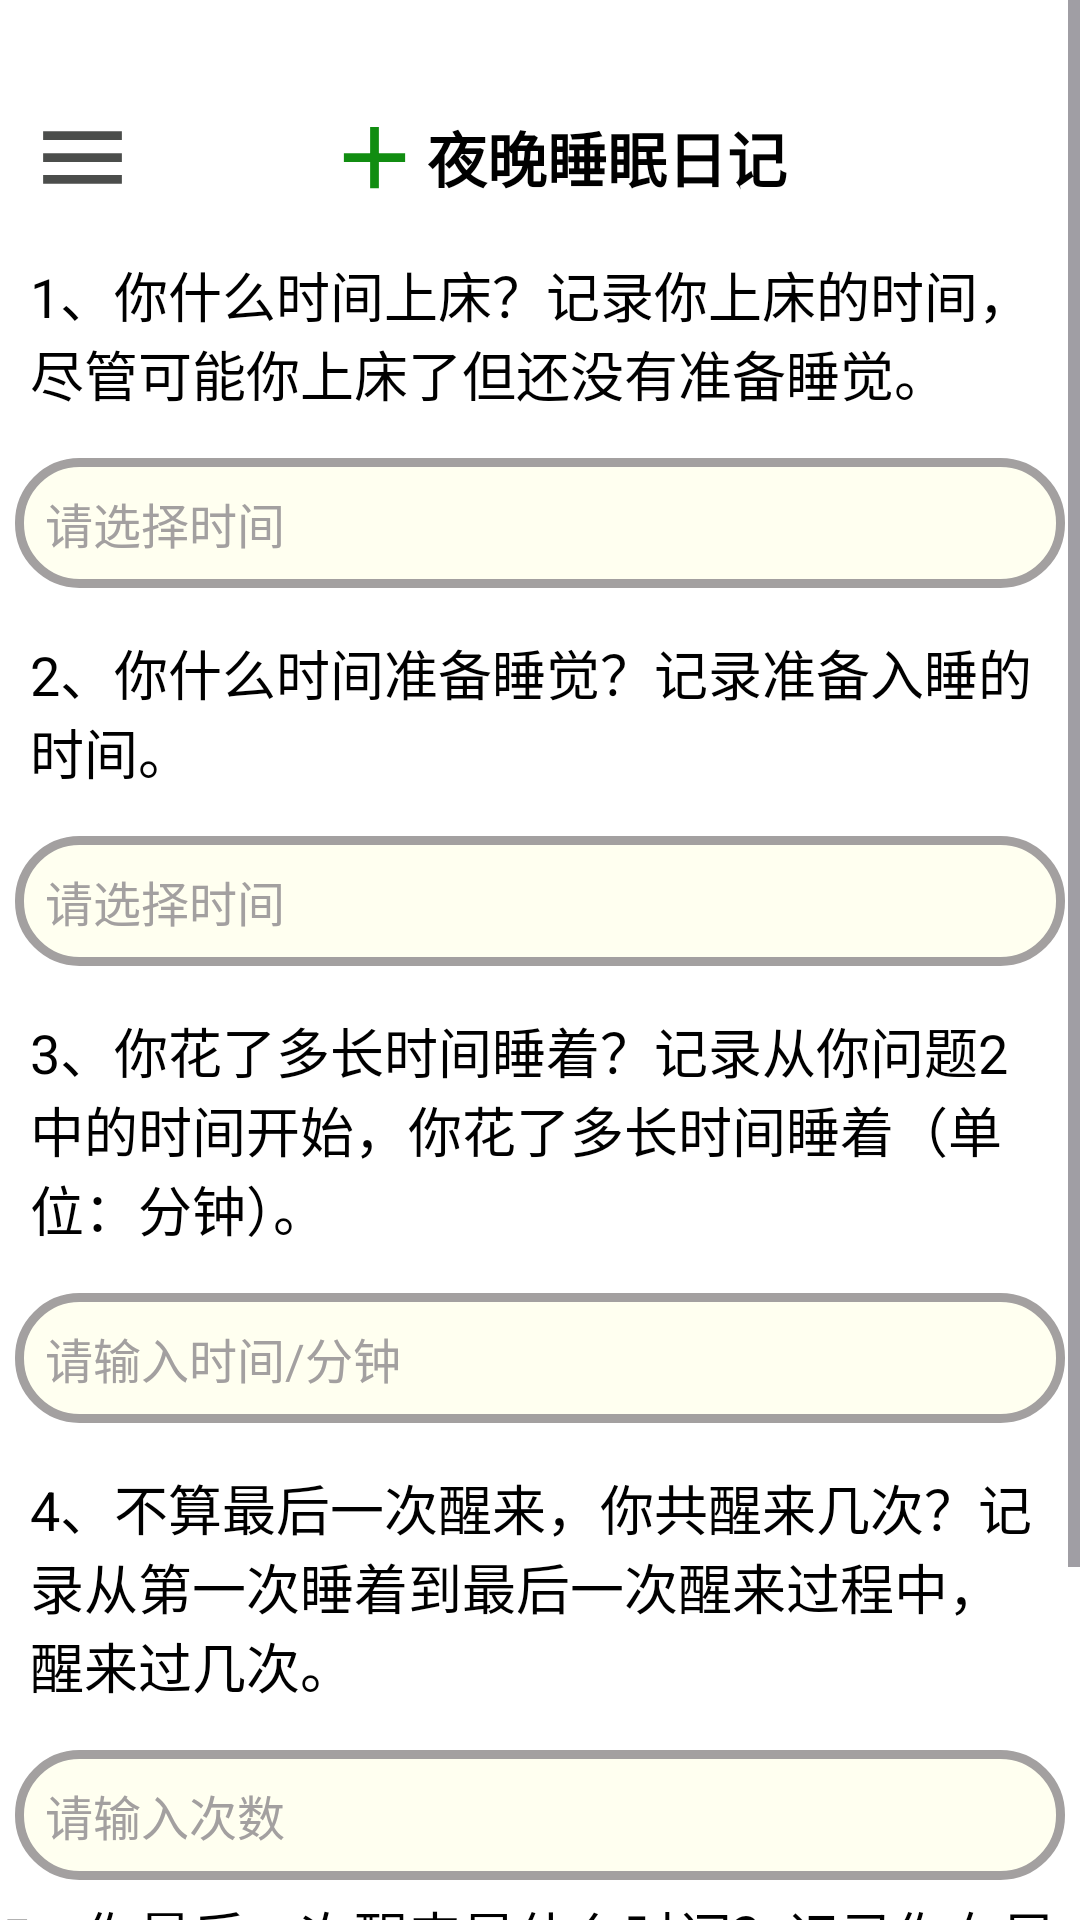

Screen size 1080*1920. Icon name, then its center in pixels as [x,y]:
add: [374,158]
menu: [82,157]
